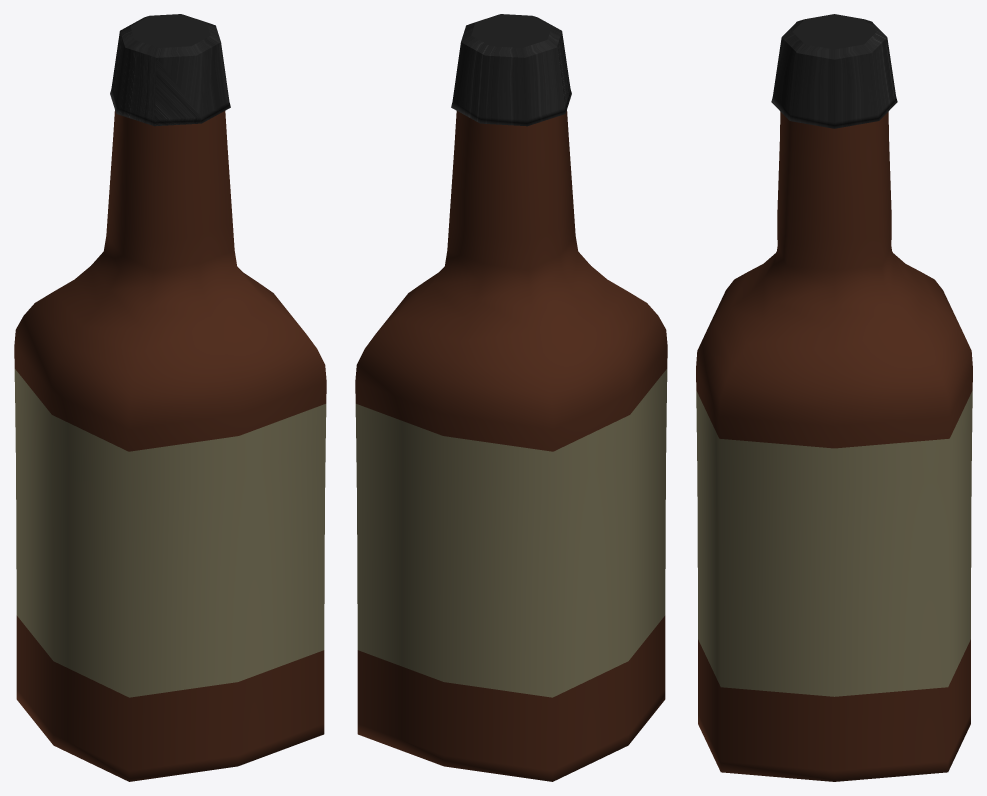
File: scotch.glb
3 views of the same model, side by side, from view 1: azimuth 30°, elevation 25°; view 2: azimuth 150°, elevation 25°; view 3: azimuth 270°, elevation 25° (orthographic).
Visible parts, largest first — view 1: Scotch; view 2: Scotch; view 3: Scotch.
Part boxes in pixels (left/top/right/bottom): Scotch: left=14, top=14, right=326, bottom=781; Scotch: left=355, top=14, right=667, bottom=781; Scotch: left=696, top=14, right=972, bottom=781.
Size of the model in its own units: 0.1532 by 0.4265 by 0.1532.
Materials: 3 (1 with a texture image).
